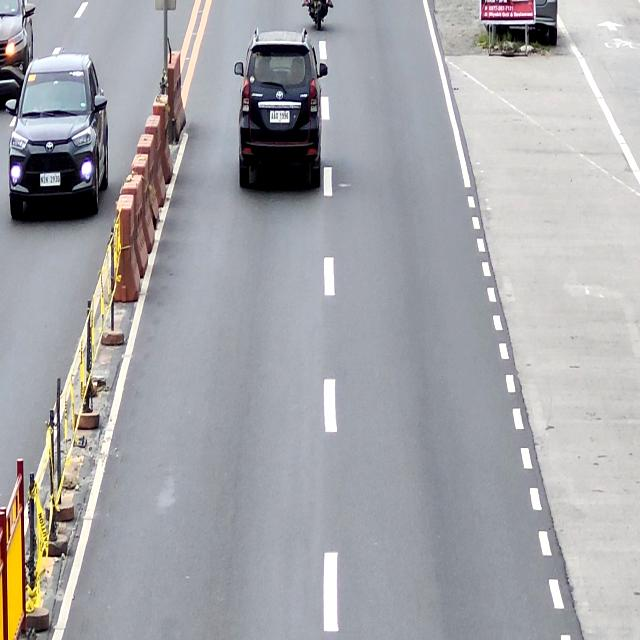Car: (235, 28, 328, 196)
License-Plate: (268, 110, 290, 122)
